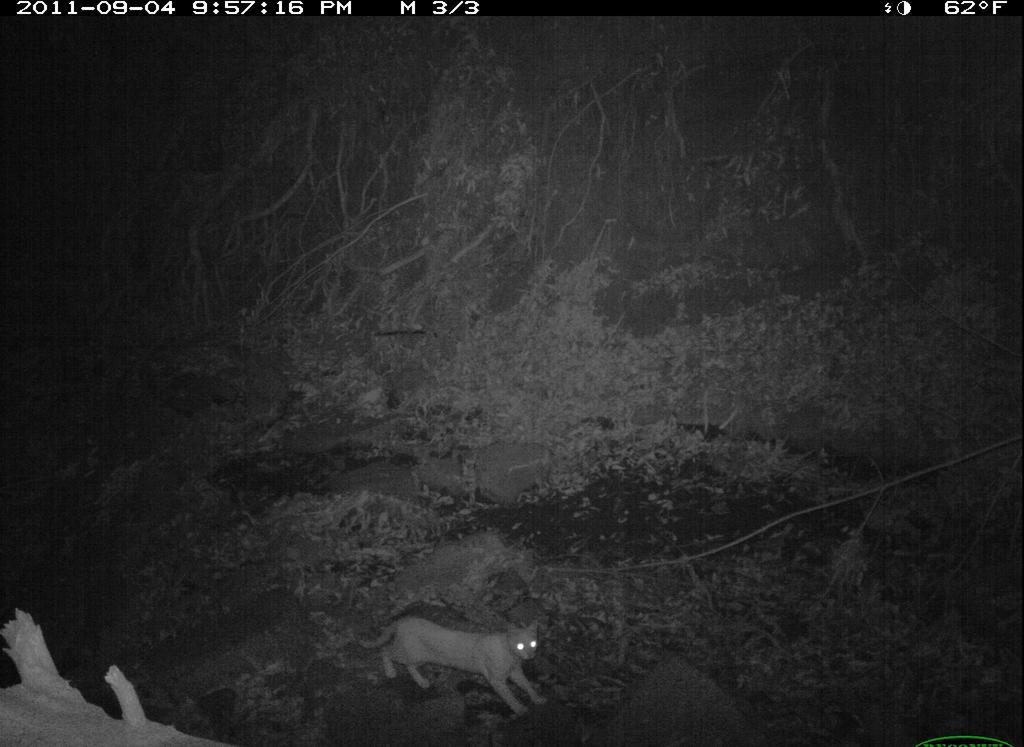cat: (354, 594, 553, 719)
